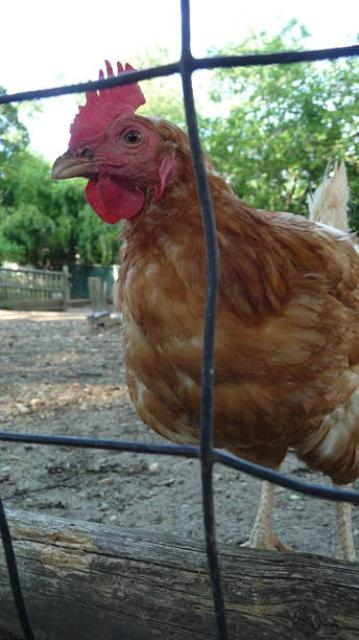Chicken: (49, 57, 359, 559)
